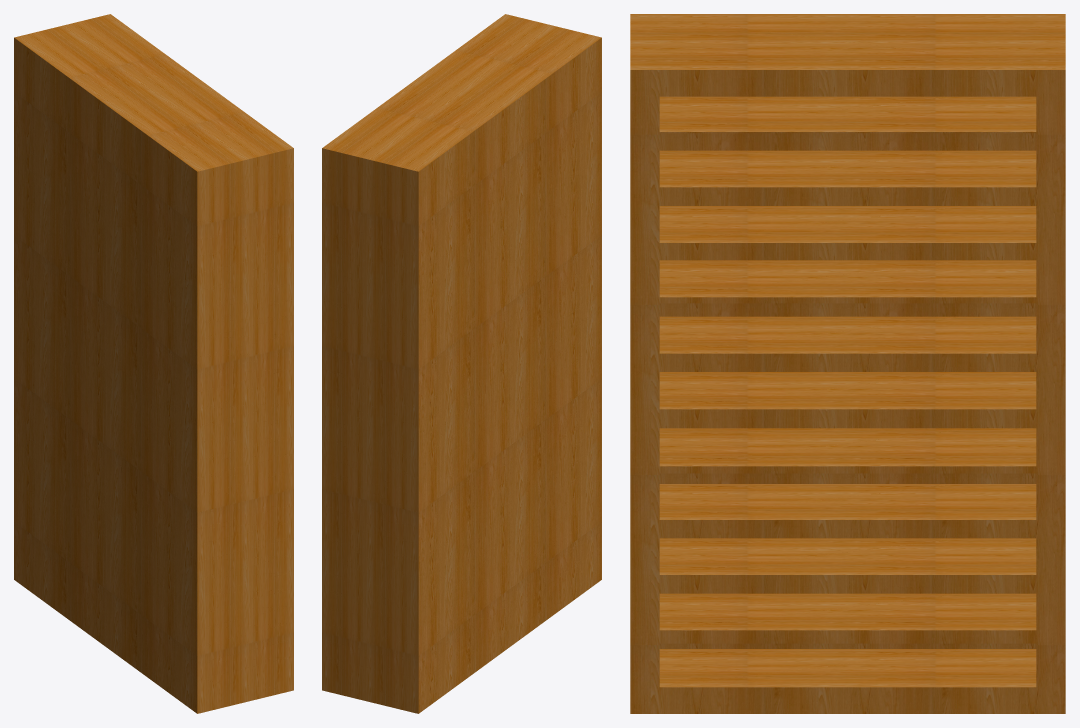
The model's file is shelf.fbx.
The picture shows the model from 3 angles, left to right: view 1: azimuth 30°, elevation 25°; view 2: azimuth 150°, elevation 25°; view 3: azimuth 270°, elevation 25°; orthographic projection. The views are drawn at different scales.
Visible parts, largest first — view 1: Cube.006; view 2: Cube.006; view 3: Cube.006.
Part boxes in pixels (x1=…): Cube.006: x1=14, y1=14, x2=293, y2=713; Cube.006: x1=322, y1=14, x2=601, y2=713; Cube.006: x1=630, y1=14, x2=1065, y2=713.
Bounding box in the file's own units: 72.05 × 387 × 237.
Materials: 1 (1 with a texture image).
